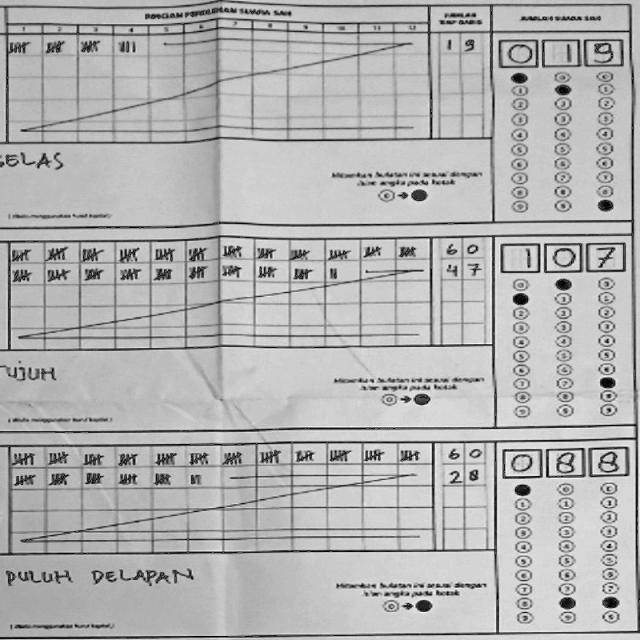Suara: (496, 30, 626, 70), (495, 238, 629, 272), (498, 444, 630, 478)
